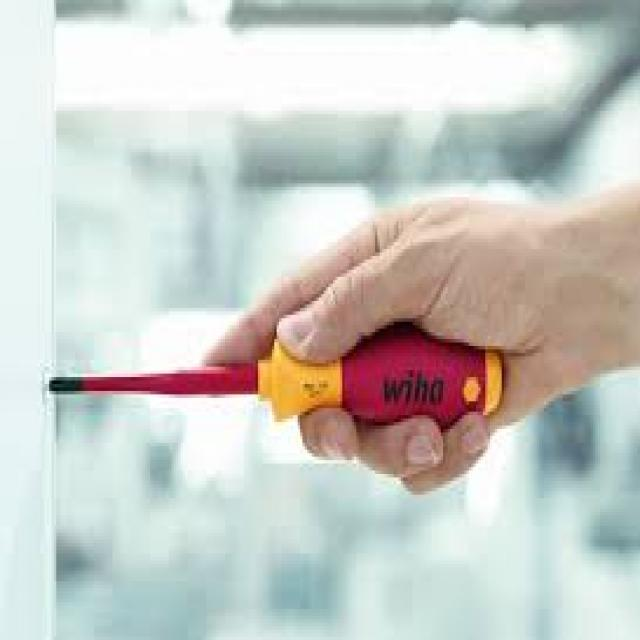screwdriver: (49, 316, 509, 438)
